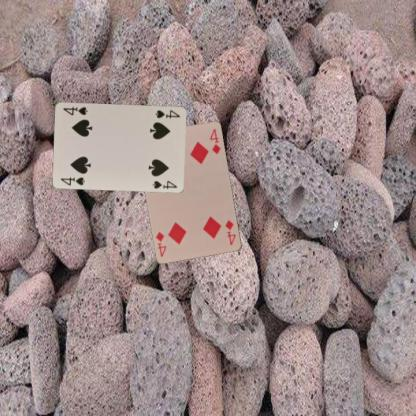4d: (222, 218, 237, 247)
4s: (58, 174, 86, 187), (152, 107, 182, 119)
